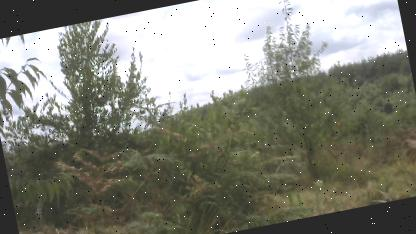tree: (18, 10, 185, 234), (229, 0, 356, 189)
